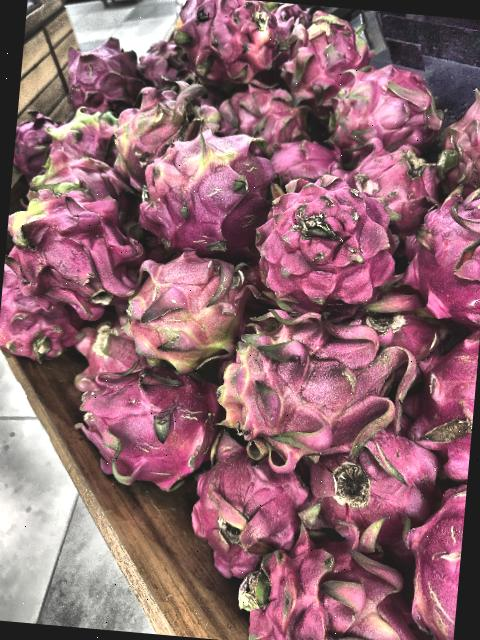buah-naga-belum-matang: (210, 288, 421, 464), (225, 532, 432, 640), (110, 238, 254, 372), (1, 188, 145, 322), (134, 130, 272, 246), (102, 80, 230, 184), (42, 108, 120, 178)
buah-naga-matang: (58, 316, 224, 496), (246, 168, 407, 312), (193, 433, 314, 585), (299, 417, 443, 537), (318, 52, 447, 156), (327, 127, 444, 241), (407, 312, 480, 479), (401, 181, 480, 325), (168, 0, 285, 86), (0, 255, 88, 369), (271, 2, 368, 104), (52, 34, 144, 116), (209, 80, 311, 152), (430, 74, 480, 199)
